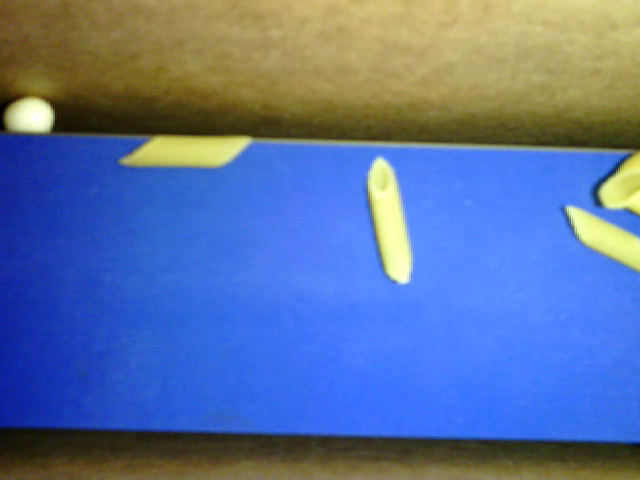penne: (366, 155, 413, 284), (563, 204, 639, 272), (116, 136, 252, 167)
shell: (595, 151, 639, 217)
